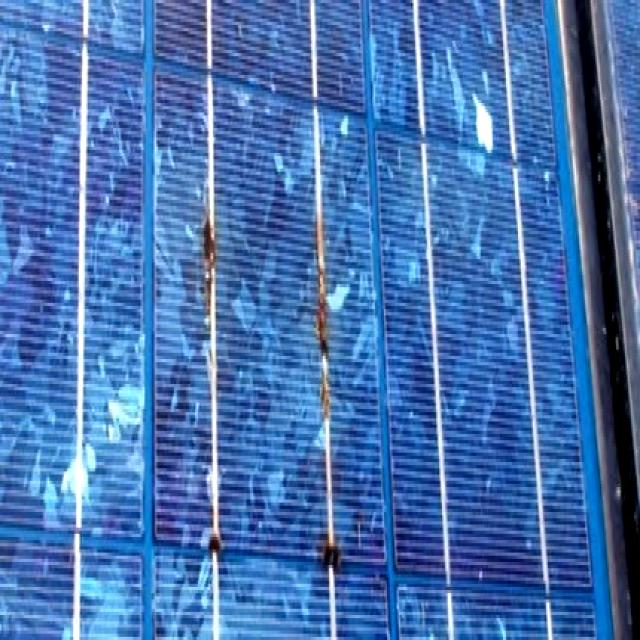shadow: (300, 199, 350, 481), (184, 160, 227, 384), (309, 518, 356, 580), (200, 524, 247, 578)
